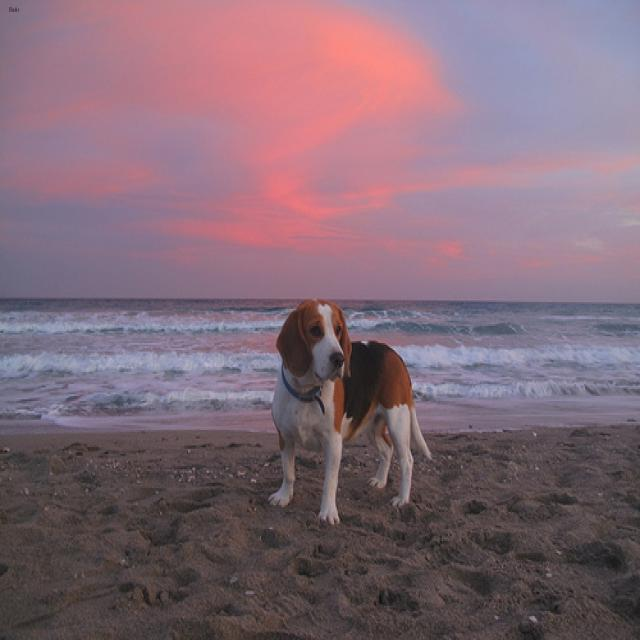dog-beagle: (262, 292, 438, 532)
